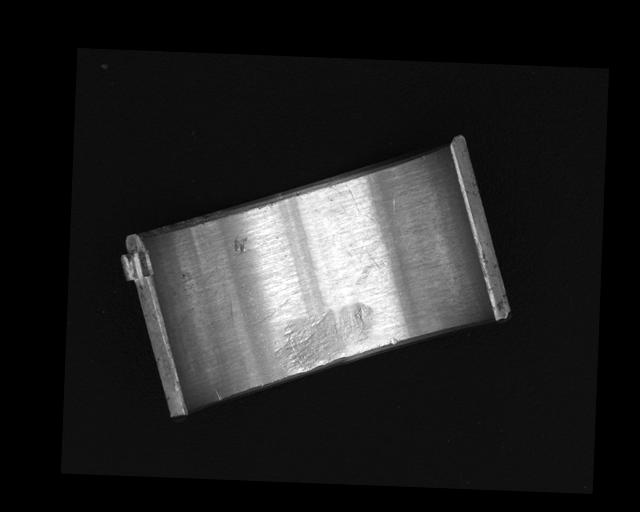blot: (344, 238, 391, 290)
bruise: (232, 235, 249, 254), (388, 337, 400, 345)
nick: (212, 389, 221, 401)
scratch: (271, 297, 374, 374)
